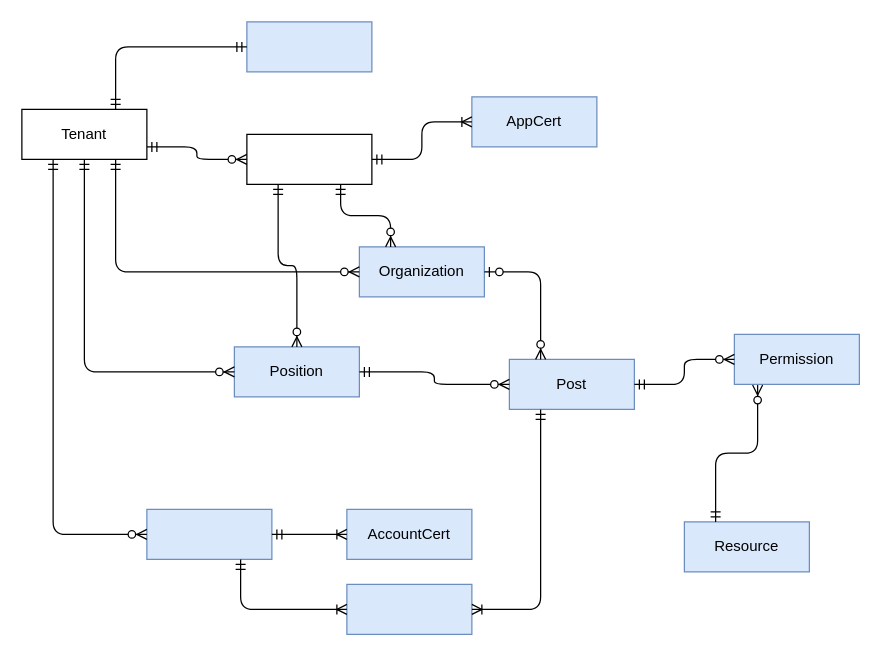
Some shapes in this 881 by 656 pixel diagram are drawn without their labels. Each missing label, with the centre of its shape:
"Account" goes at pixel 209 533.
"AccountPost" goes at pixel 409 608.
"App" goes at pixel 309 158.
"TenantCertConfig" goes at pixel 309 46.
